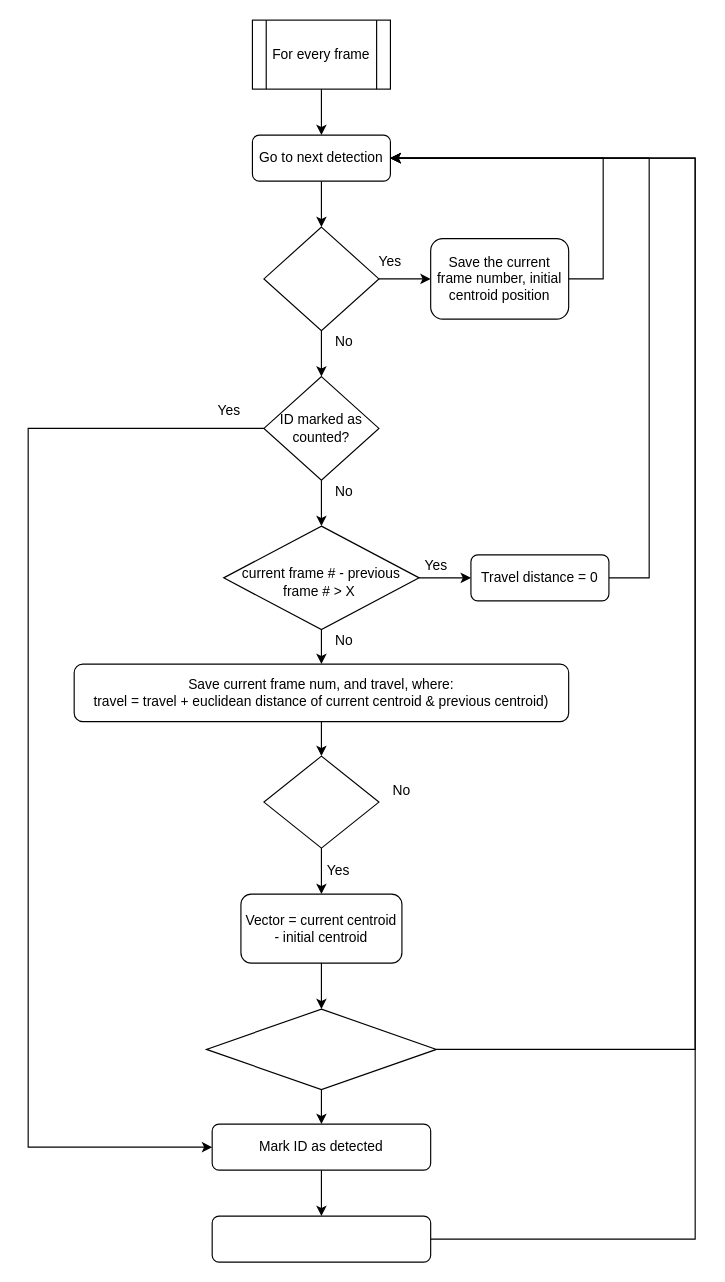
This 725x1282 diagram has some shape labels left out. The shapes that lost their labels are listed below. From the top down, each one's centre as x and y in pixels, then its label:
the point at 321,278: ID is new
the point at 321,801: Travel > Y
the point at 320,1049: vector within set bounds
the point at 321,1238: Annotate Image & send to UI
